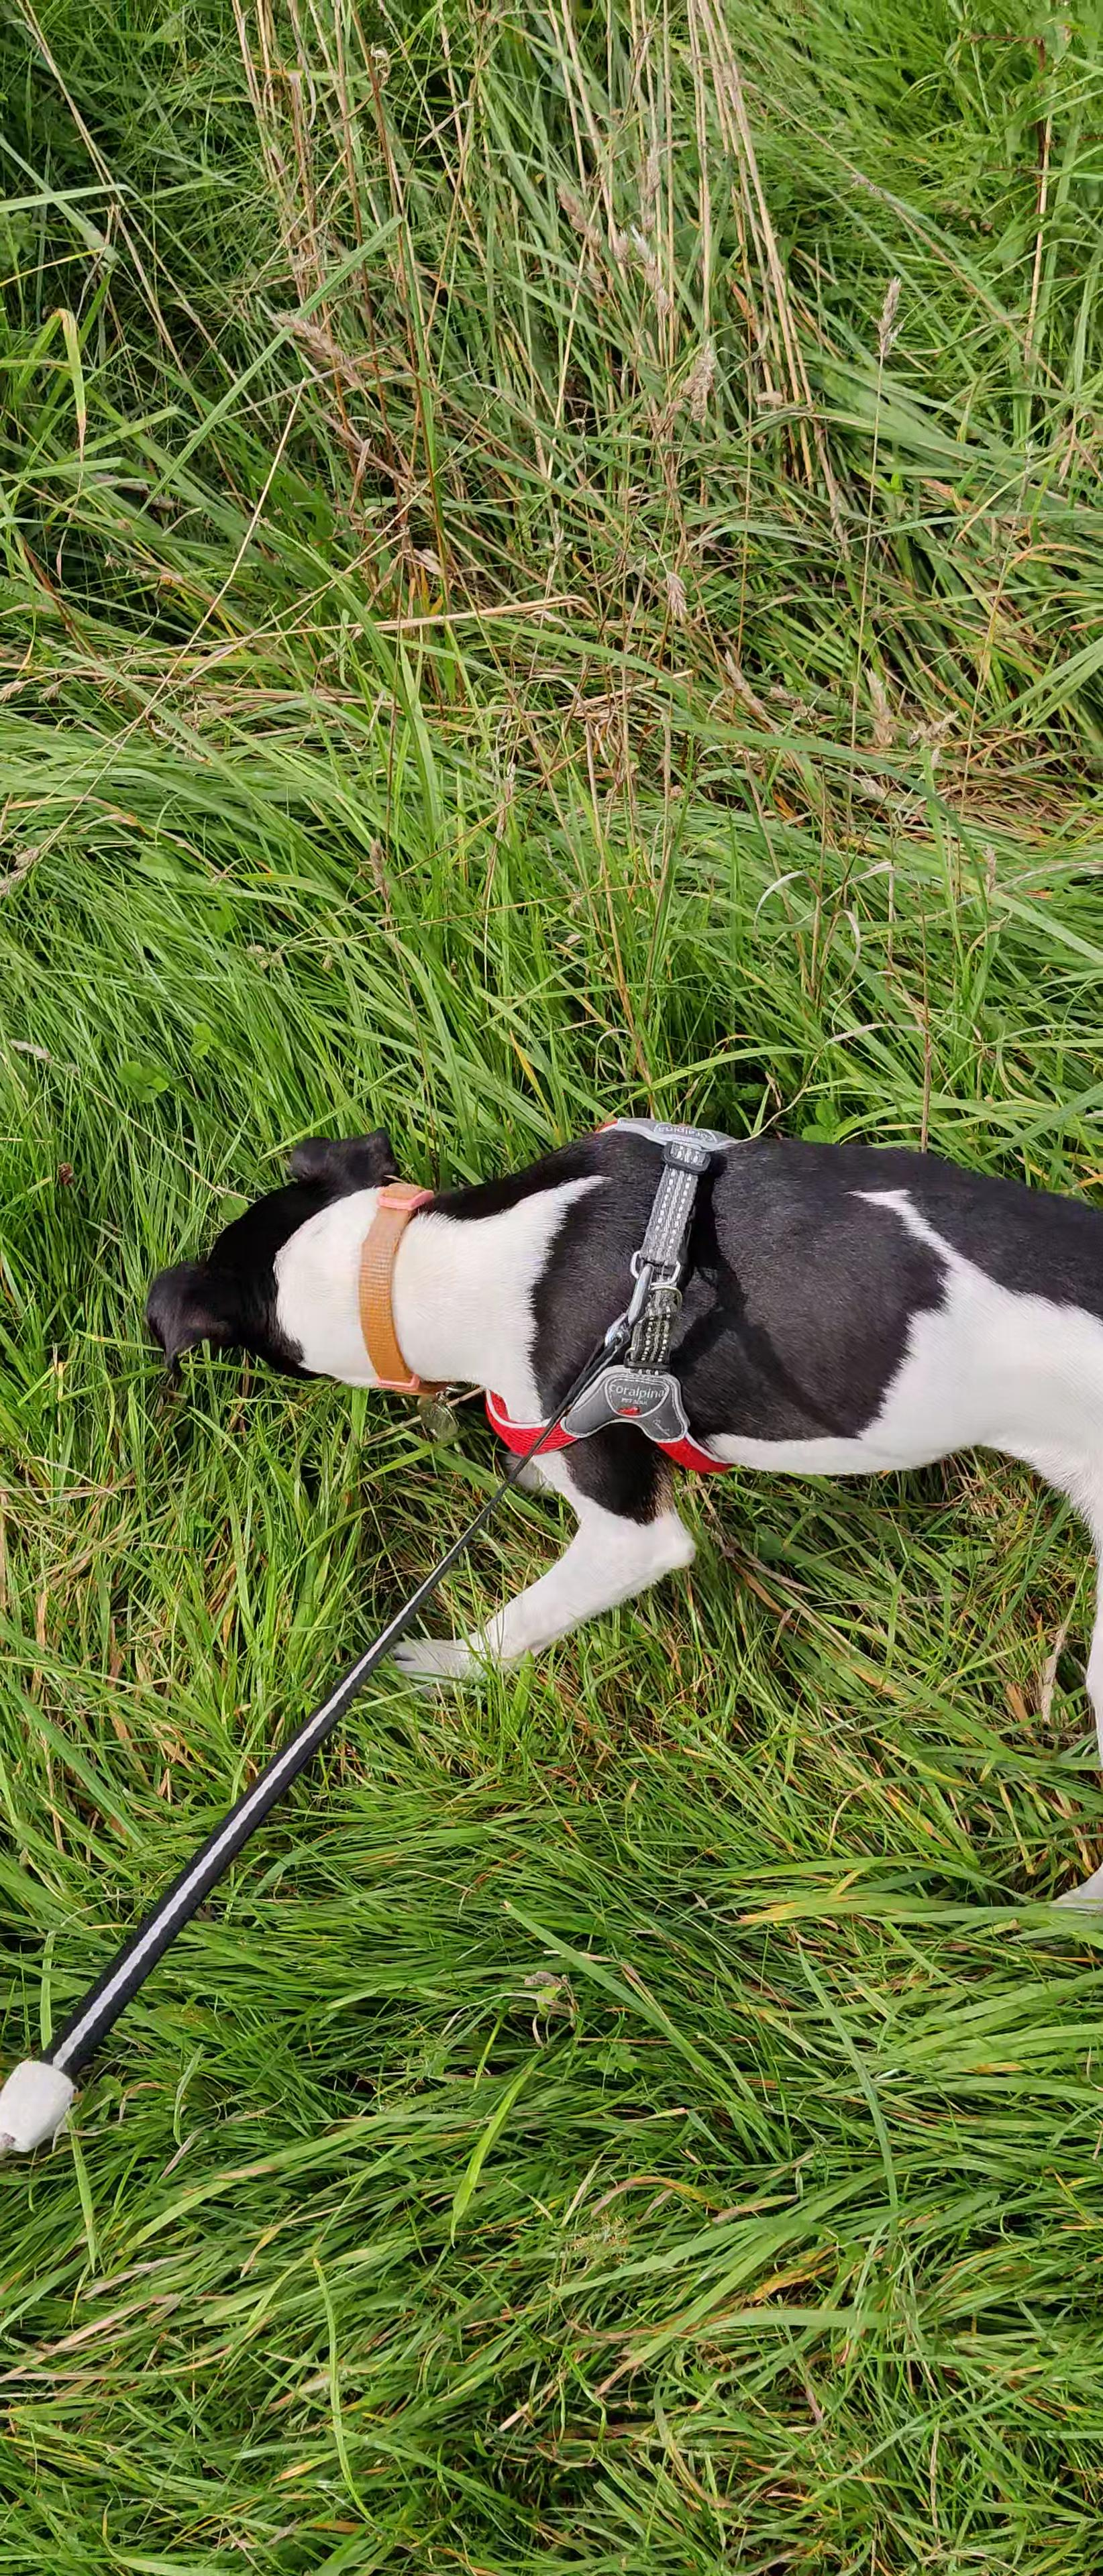Dog: (132, 1097, 1103, 1916)
